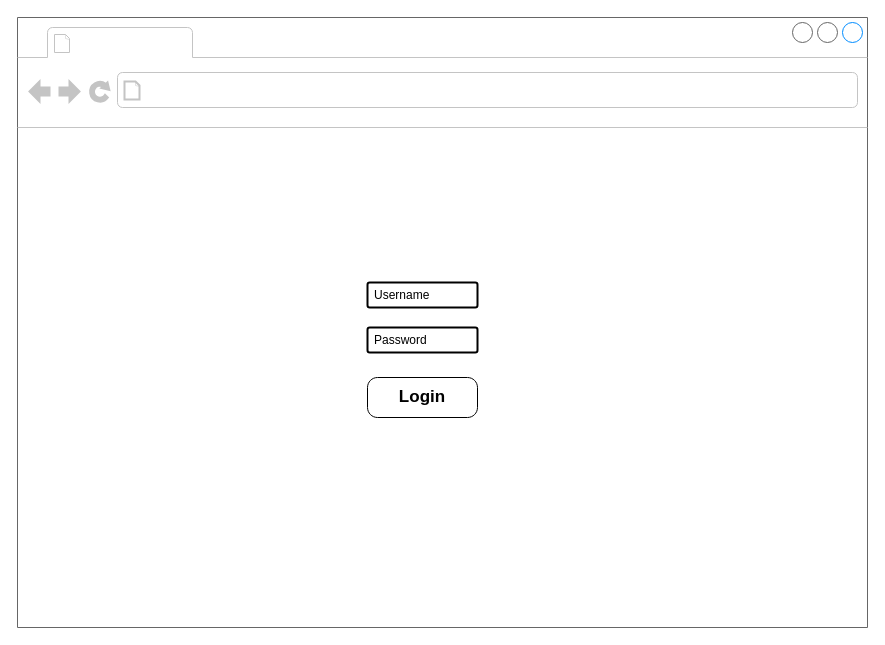
Image size: 885x645. Some labels were removed from this diagram. Here are the shapes that lost their labels. From the top down, the centre of each, then its label:
At pixel 132 42: "Page 1".
At pixel 272 90: "https://www.draw.io".
